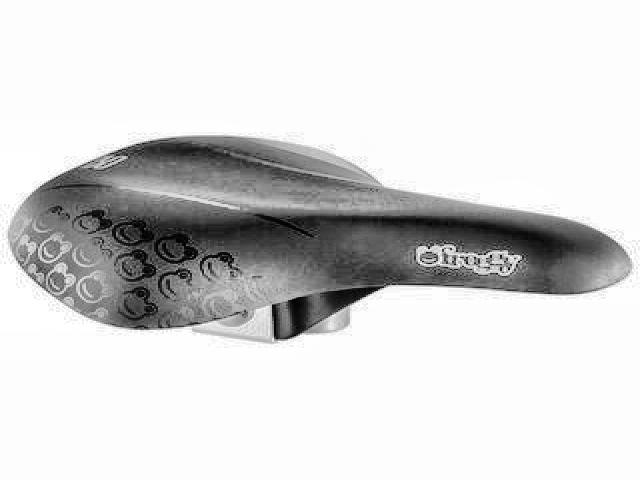saddle: (5, 133, 633, 345)
